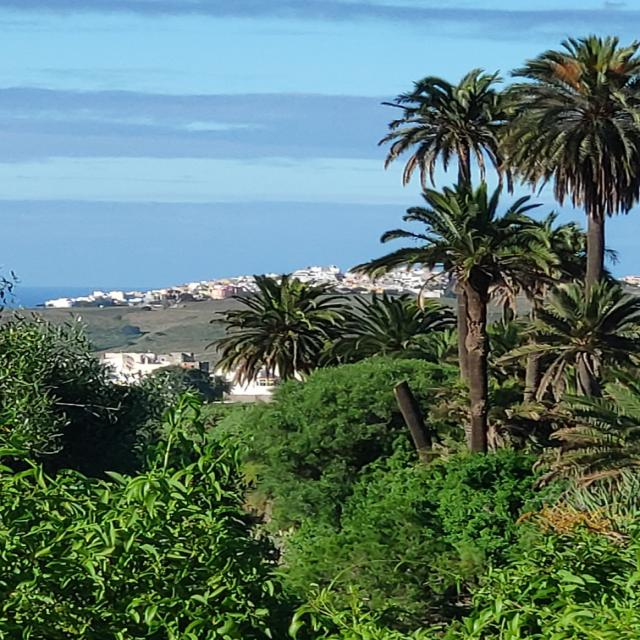Palm-Trees: (366, 180, 562, 454), (382, 70, 514, 382), (503, 33, 640, 309), (210, 272, 342, 390)
